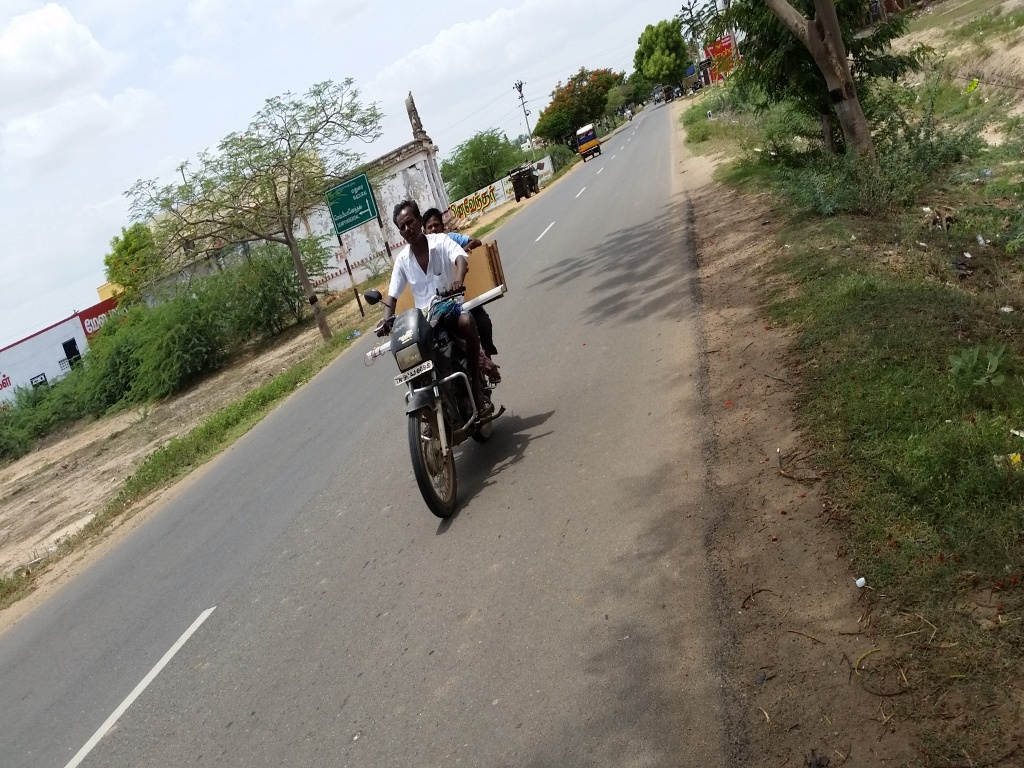biker: (349, 163, 541, 539)
nohelmet: (388, 193, 423, 261), (421, 198, 450, 247)
